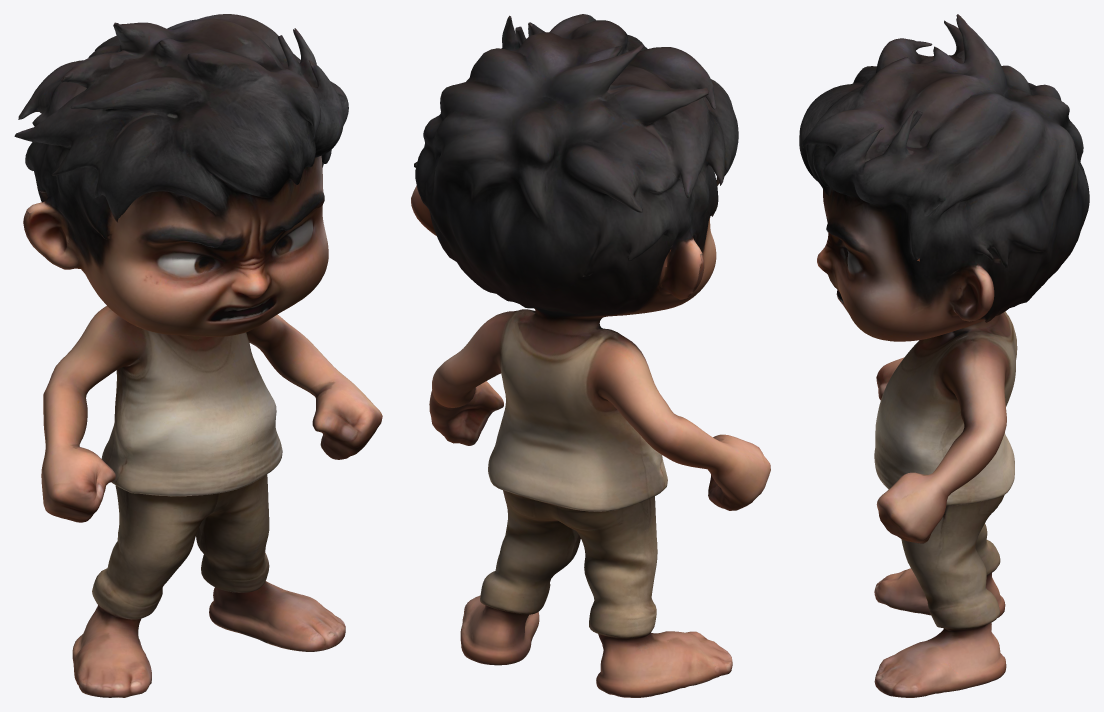
The model's file is raiva.obj.
The picture shows the model from 3 angles, left to right: view 1: azimuth 30°, elevation 25°; view 2: azimuth 150°, elevation 25°; view 3: azimuth 270°, elevation 25°; orthographic projection. The views are drawn at different scales.
Visible parts, largest first — view 1: Mesh_0; view 2: Mesh_0; view 3: Mesh_0.
Part boxes in pixels (x1,y1,x2,y2): Mesh_0: (14,14,382,697); Mesh_0: (411,14,770,697); Mesh_0: (799,14,1089,697).
Size of the model in its own units: 1.09 by 2 by 0.8836.
1 material, 1 textured.
